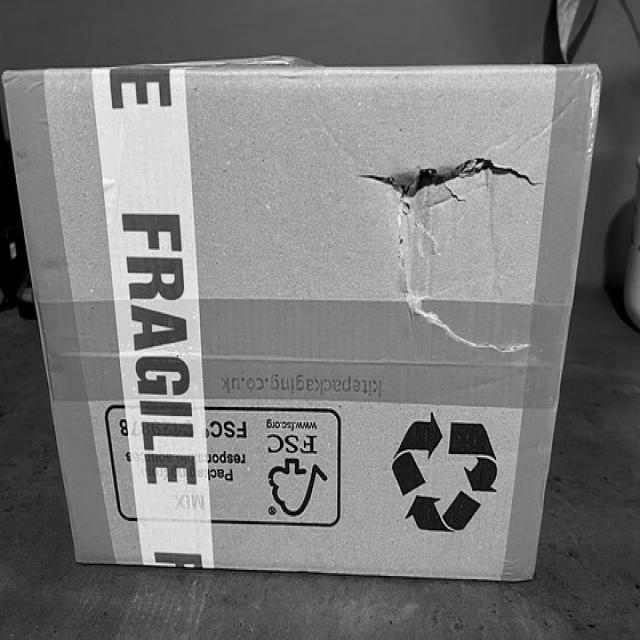hole: (368, 158, 541, 250)
